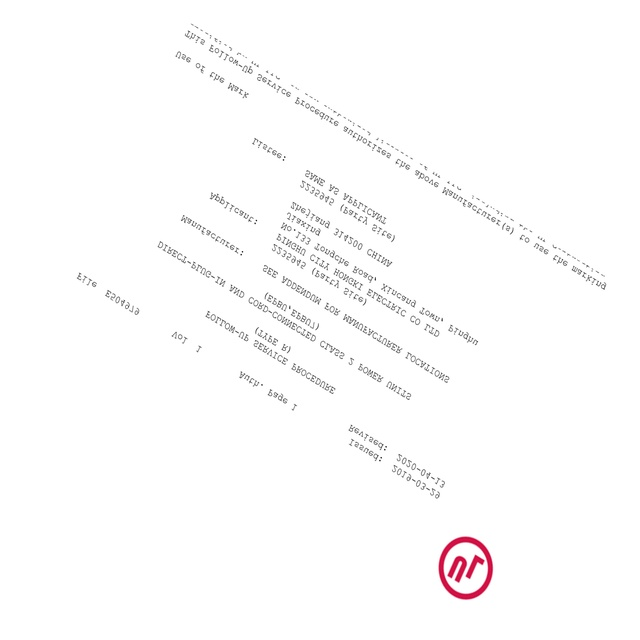ul: (437, 533, 494, 601)
